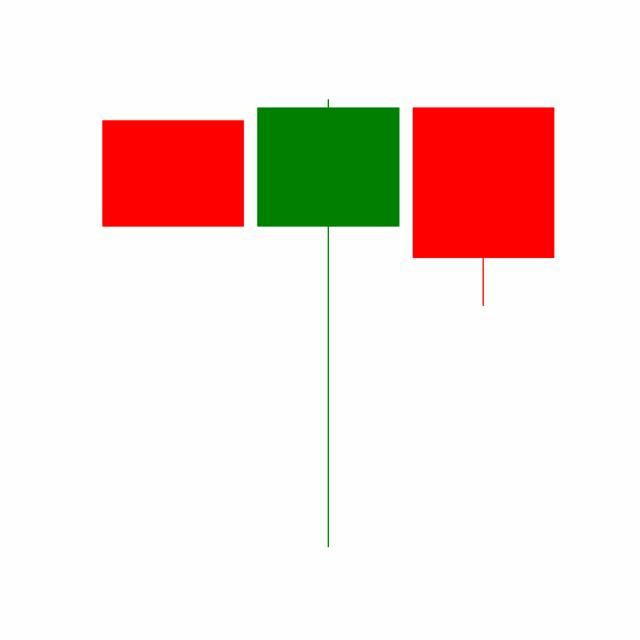Hanging Man: (249, 94, 406, 552)
